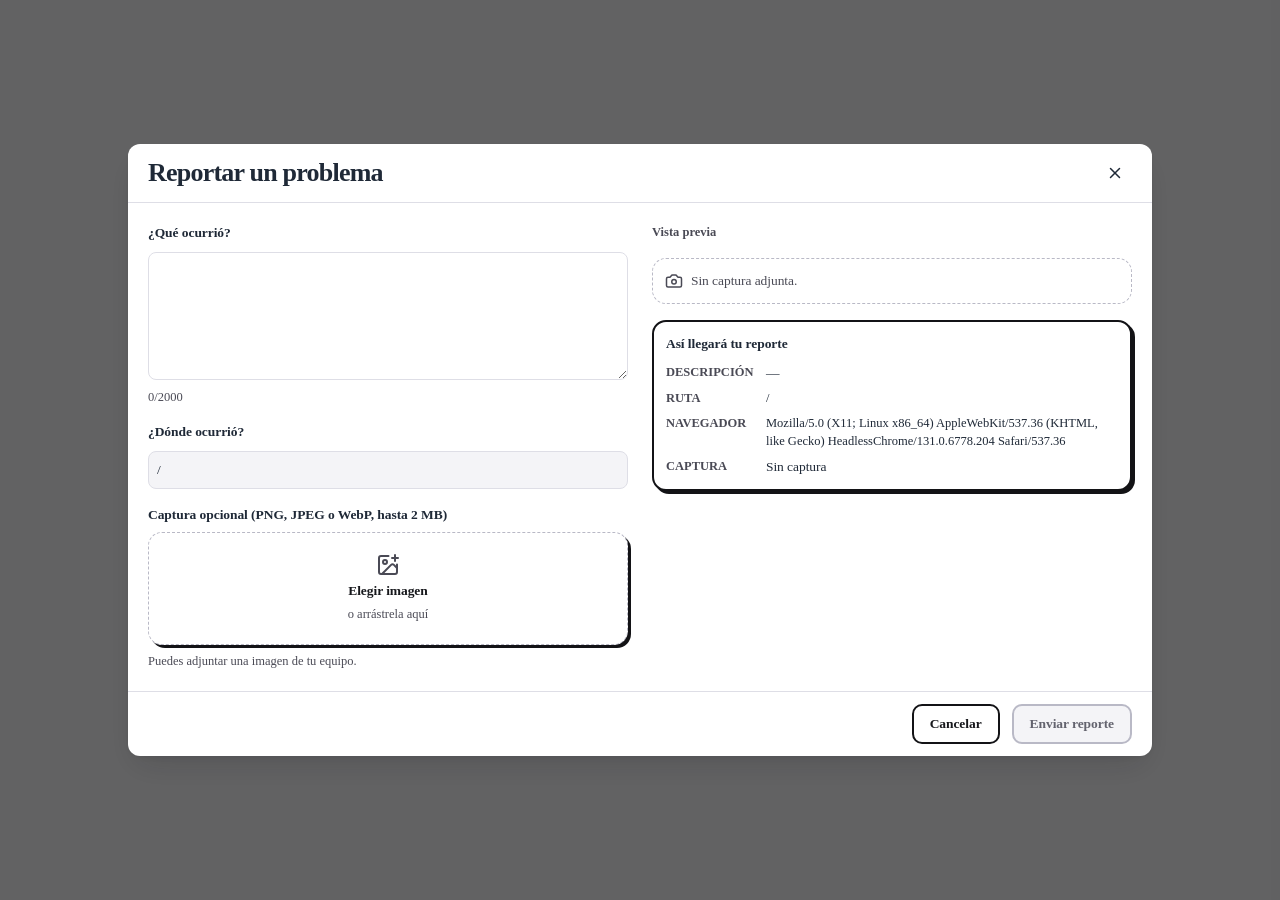
Scenario: ReportProblemDialog › report sent state › shows a compact centred confirmation with a highlighted tracking code
Type "Falla" into the text box labelled "¿Qué ocurrió? 0/2000".
click(388, 316); type("Falla")  # box [148,252,628,380]
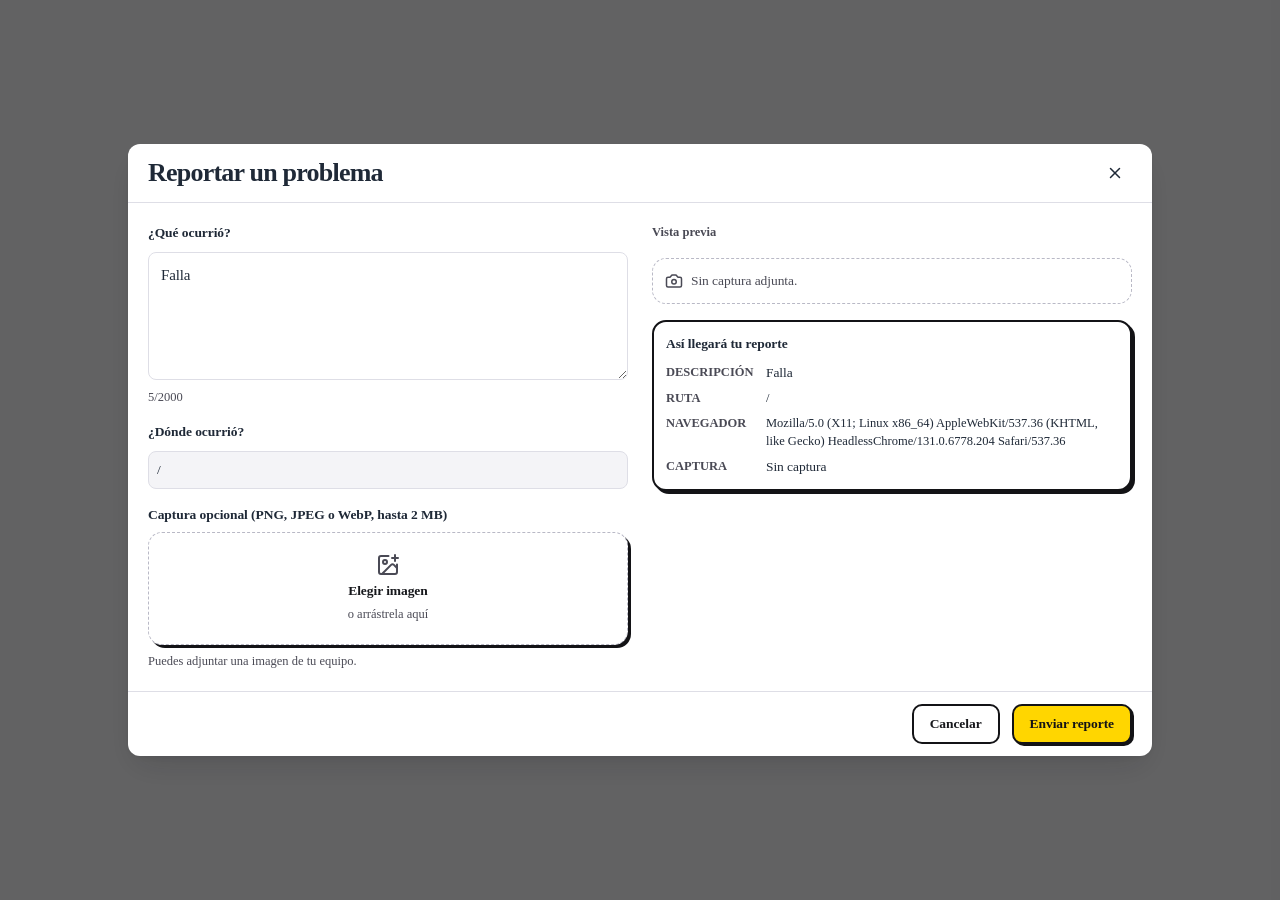
Click the button "Enviar reporte".
click(1072, 724)  # box [1012,704,1132,744]
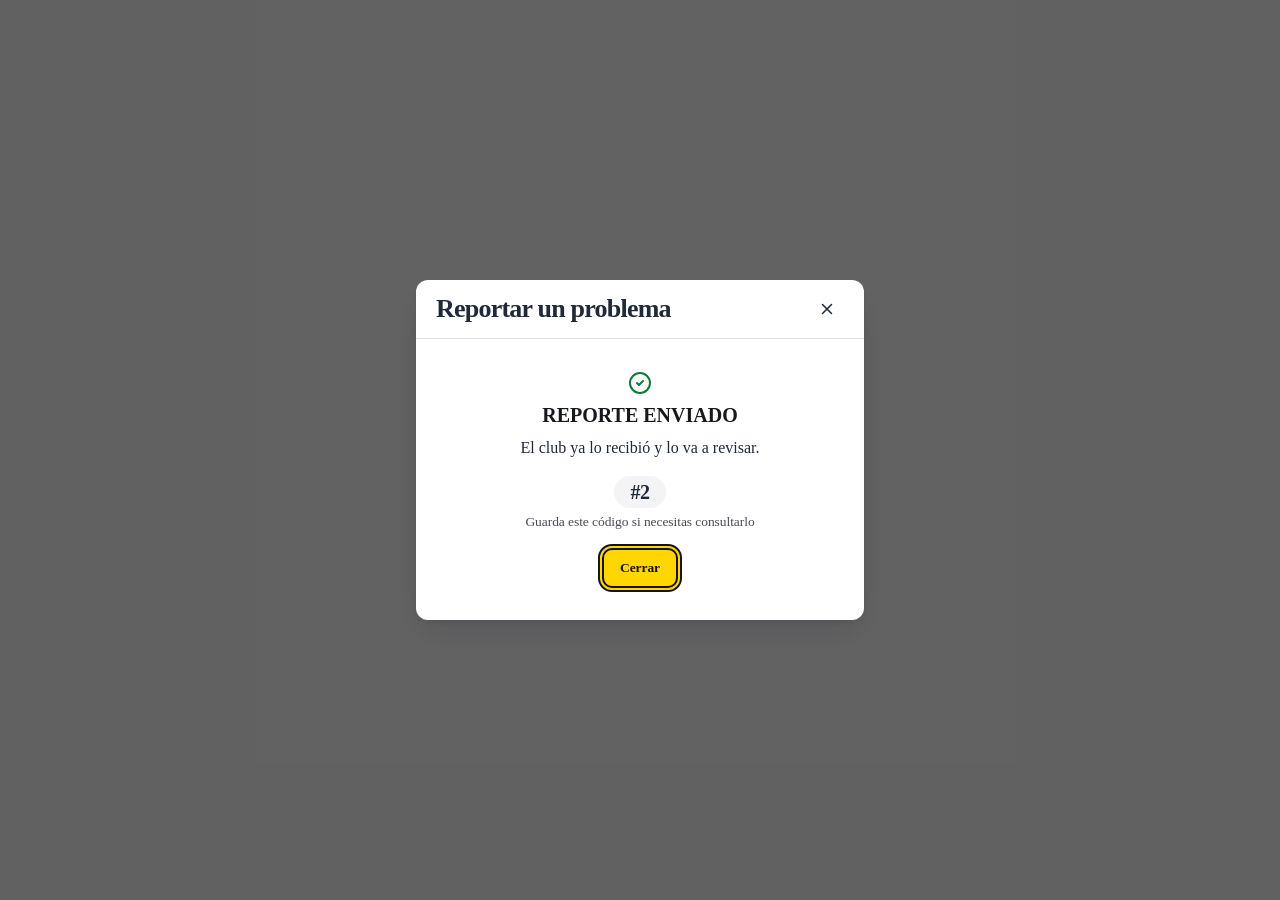
Check: the heading "Reporte enviado" is shown, box [542,403,738,428]
Check: the text "El club ya lo recibió y lo va a revisar." is shown, box [520,436,760,460]
Check: the text "#2" is shown, box [614,476,666,508]
